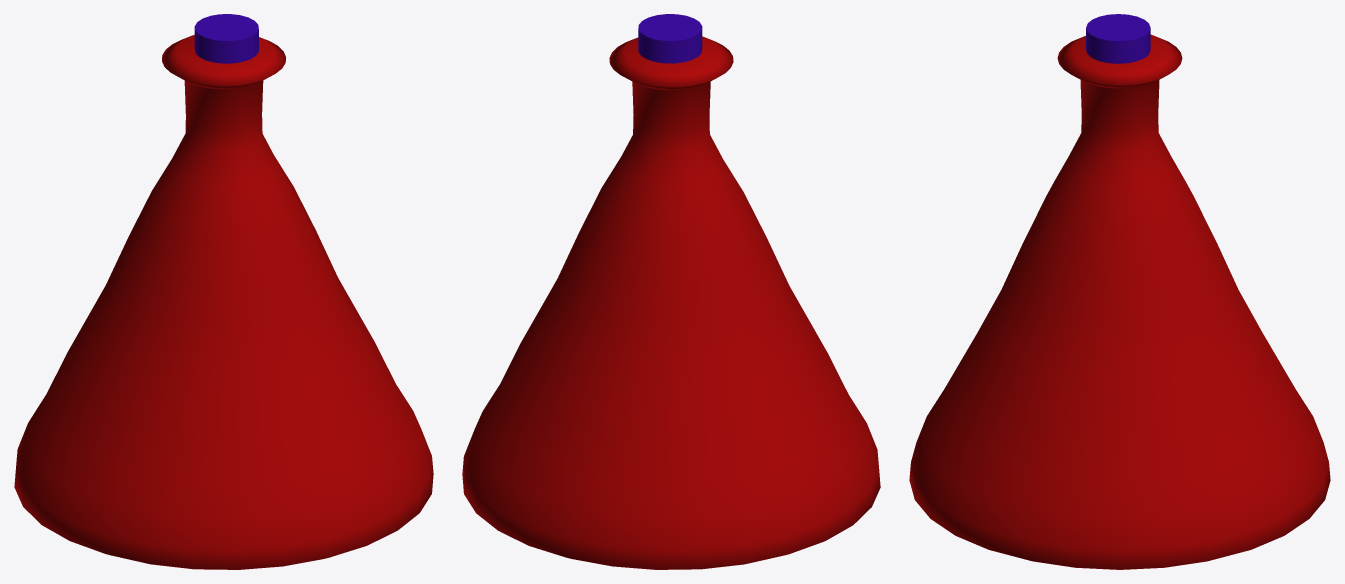
Rendered from FlaskMedium.fbx.
3 renders of one model, left to right at view 1: azimuth 30°, elevation 25°; view 2: azimuth 150°, elevation 25°; view 3: azimuth 270°, elevation 25°, orthographic.
Parts seen in each view (by area): view 1: Flask_Medium; view 2: Flask_Medium; view 3: Flask_Medium.
Boxes of the visible parts, x1,y1,x2,y2 form: Flask_Medium: (14, 14, 433, 569); Flask_Medium: (462, 14, 880, 569); Flask_Medium: (909, 14, 1330, 569).
Bounding box in the file's own units: 21.1 × 25.43 × 21.1.
